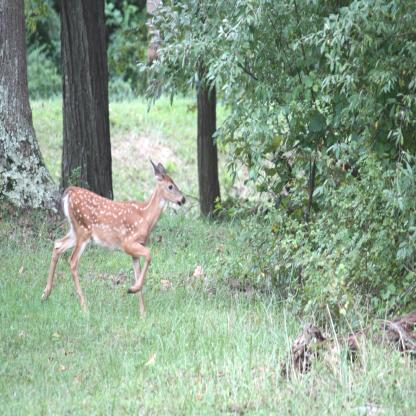Deer: (41, 159, 185, 323)
